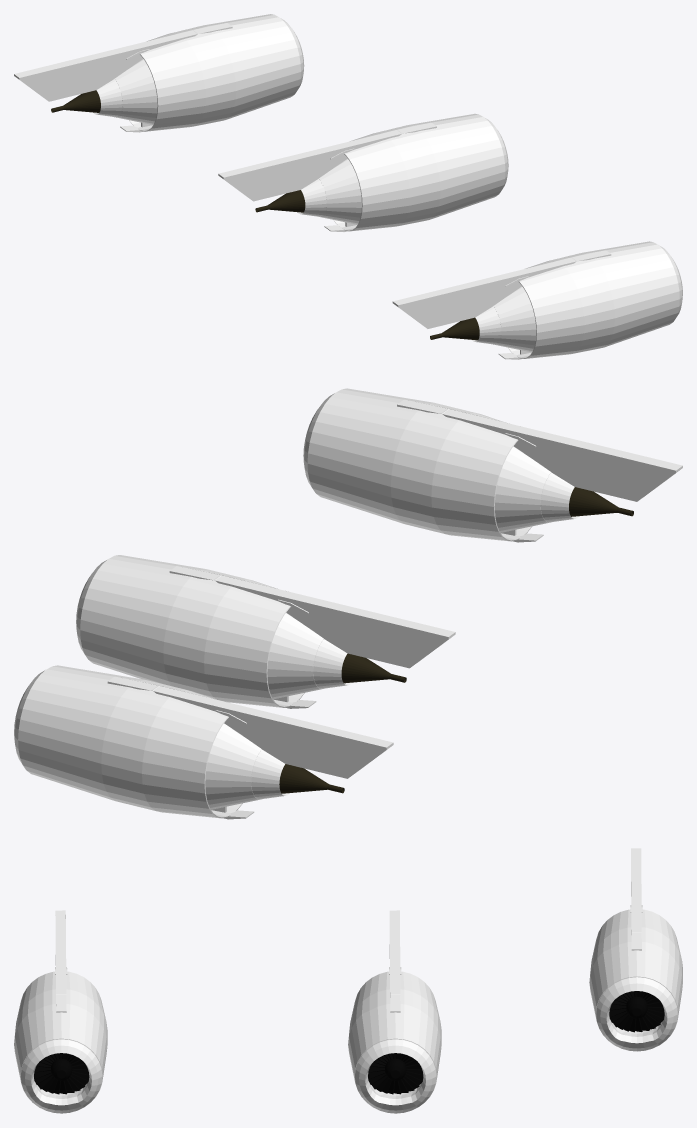
3 views of the same model, one above another, from view 1: azimuth 30°, elevation 25°; view 2: azimuth 150°, elevation 25°; view 3: azimuth 270°, elevation 25° (orthographic). The views are drawn at different scales.
Parts seen in each view (by area): view 1: 立方体, 立方体.002, 立方体.001, 円柱.008, 円柱.004, 円柱.002; view 2: 立方体.002, 立方体.001, 立方体, 円柱.004, 円柱.008, 円柱.002; view 3: 立方体, 立方体.001, 立方体.002, 円柱.001, 円柱.006, 円柱.003, 円柱.005, 円柱.007, 円柱.009.
Part boxes in pixels (x1=…): 立方体: x1=218, y1=113, x2=504, y2=231; 立方体.002: x1=14, y1=14, x2=300, y2=132; 立方体.001: x1=392, y1=241, x2=678, y2=359; 円柱.008: x1=51, y1=59, x2=157, y2=124; 円柱.004: x1=255, y1=159, x2=361, y2=224; 円柱.002: x1=430, y1=286, x2=536, y2=352; 立方体.002: x1=18, y1=665, x2=393, y2=819; 立方体.001: x1=308, y1=388, x2=682, y2=542; 立方体: x1=80, y1=555, x2=455, y2=708; 円柱.004: x1=267, y1=613, x2=406, y2=699; 円柱.008: x1=205, y1=723, x2=344, y2=809; 円柱.002: x1=494, y1=446, x2=633, y2=532; 立方体: x1=348, y1=910, x2=441, y2=1102; 立方体.001: x1=14, y1=910, x2=107, y2=1101; 立方体.002: x1=589, y1=848, x2=682, y2=1040; 円柱.001: x1=20, y1=1039, x2=102, y2=1113; 円柱.006: x1=596, y1=977, x2=677, y2=1051; 円柱.003: x1=354, y1=1039, x2=436, y2=1113; 円柱.005: x1=34, y1=1053, x2=89, y2=1094; 円柱.007: x1=368, y1=1053, x2=423, y2=1094; 円柱.009: x1=609, y1=991, x2=664, y2=1032.
Size of the model in its own units: 10.6 by 3.34 by 18.3.
